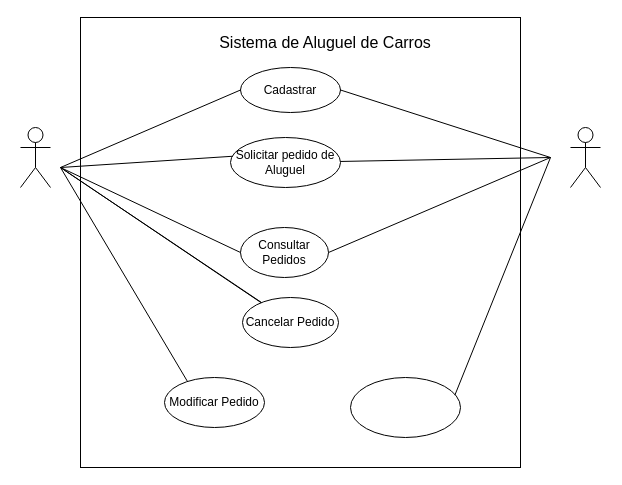
Image size: 622x485. Some labels were removed from this diagram. The centre of each missing label's shape, as x and y in pixels:
Agente: the point at 585,157
Analisar Financeriramente: the point at 405,407
Cliente: the point at 35,157
